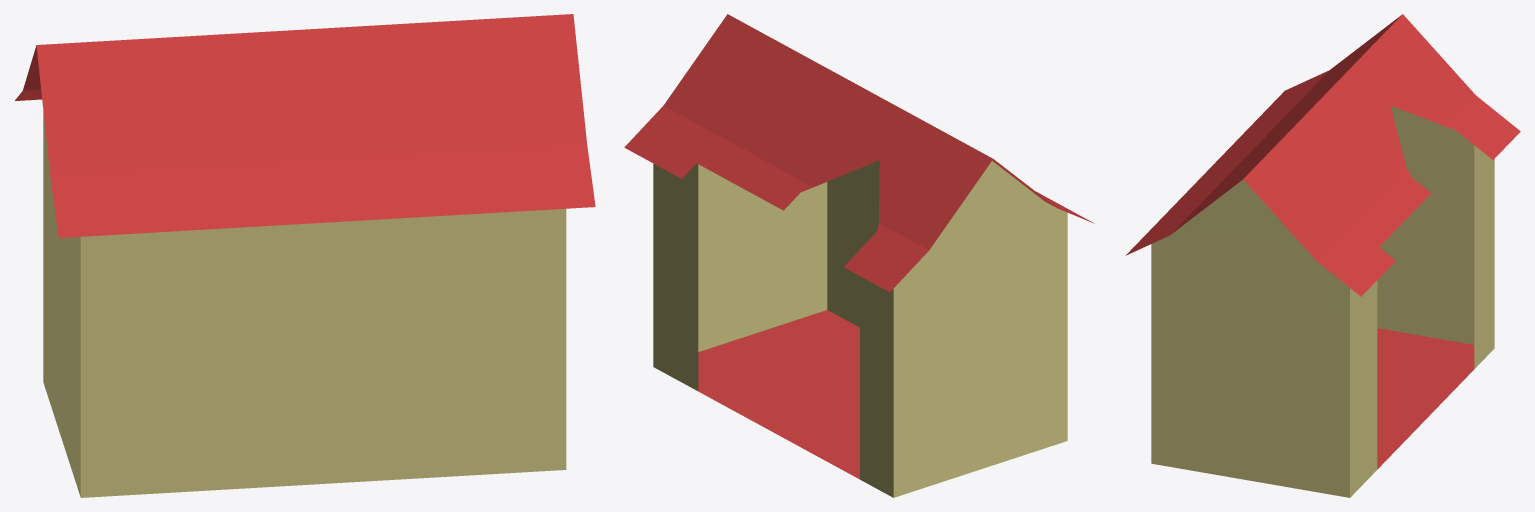
The picture shows the model from 3 angles, left to right: view 1: azimuth 30°, elevation 25°; view 2: azimuth 150°, elevation 25°; view 3: azimuth 270°, elevation 25°; orthographic projection. The views are drawn at different scales.
Bounding box in the file's own units: 24.16 × 19.61 × 16.91.
